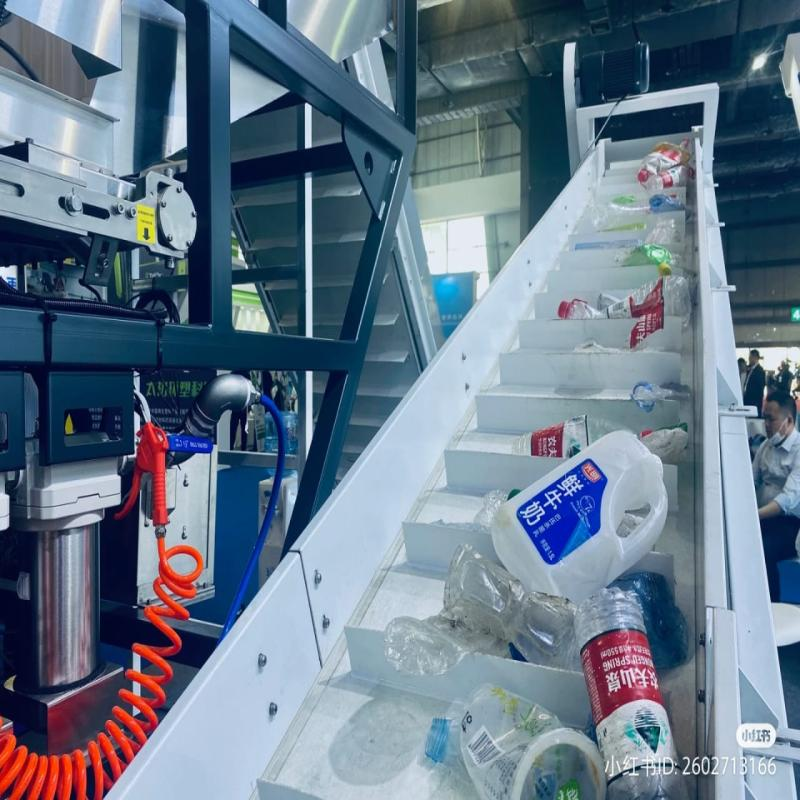botella: (580, 592, 692, 800), (446, 546, 587, 665), (426, 713, 576, 781), (386, 610, 511, 677), (555, 272, 691, 316), (508, 415, 637, 458), (617, 220, 689, 275), (639, 140, 680, 185), (650, 169, 692, 193)
